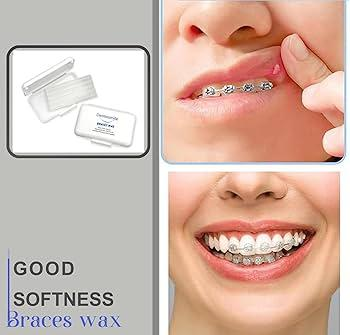Braces: (213, 237, 301, 267), (188, 79, 286, 100)
